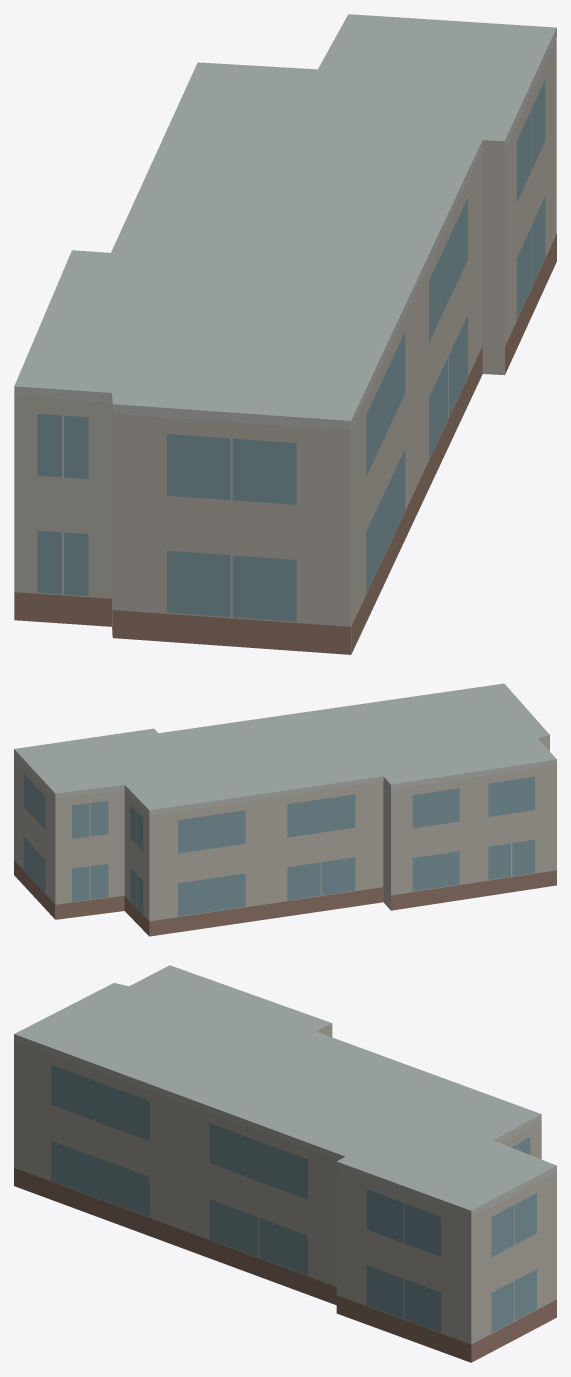
File: survey-upis-32562045.glb
3 renders of one model, top to bottom at view 1: azimuth 30°, elevation 25°; view 2: azimuth 150°, elevation 25°; view 3: azimuth 270°, elevation 25°, orthographic. The views are drawn at different scales.
Visible parts, largest first — view 1: survey-upis-32562045.tmp; view 2: survey-upis-32562045.tmp; view 3: survey-upis-32562045.tmp.
Boxes of the visible parts, x1,y1,x2,y2 form: survey-upis-32562045.tmp: (14, 14, 556, 654); survey-upis-32562045.tmp: (14, 683, 556, 936); survey-upis-32562045.tmp: (14, 965, 556, 1362).
Bounding box in the file's own units: 21.15 × 6.1 × 19.76.
